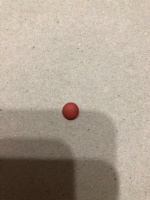Dolorex: (61, 101, 80, 121)
